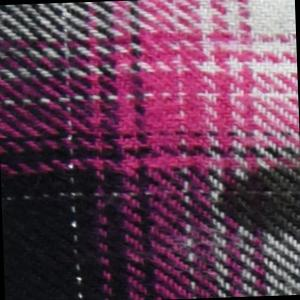Stain: (210, 162, 300, 248)
